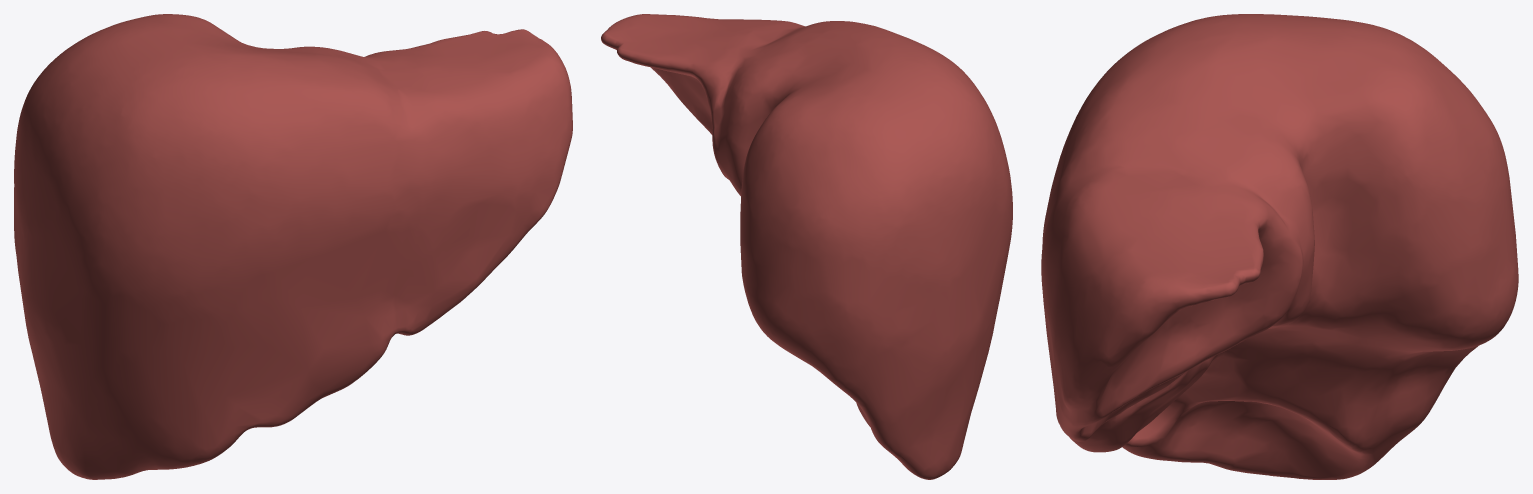
The model's file is FMA7197.glb.
3 views of the same model, side by side, from view 1: azimuth 30°, elevation 25°; view 2: azimuth 150°, elevation 25°; view 3: azimuth 270°, elevation 25° (orthographic). The views are drawn at different scales.
Parts seen in each view (by area): view 1: FMA7197; view 2: FMA7197; view 3: FMA7197.
Boxes of the visible parts, x1=… form: FMA7197: x1=14, y1=14, x2=572, y2=479; FMA7197: x1=601, y1=14, x2=1012, y2=479; FMA7197: x1=1041, y1=14, x2=1518, y2=479.
Bounding box in the file's own units: 0.199 × 0.1739 × 0.15.
